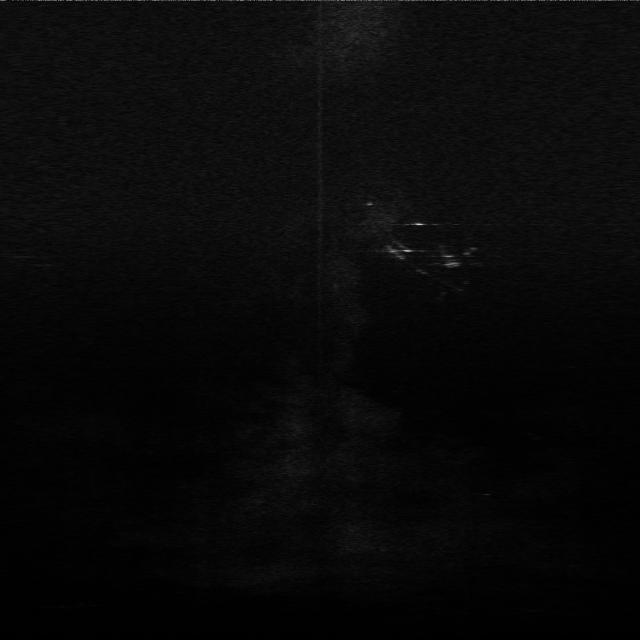rov: (440, 250, 466, 270)
